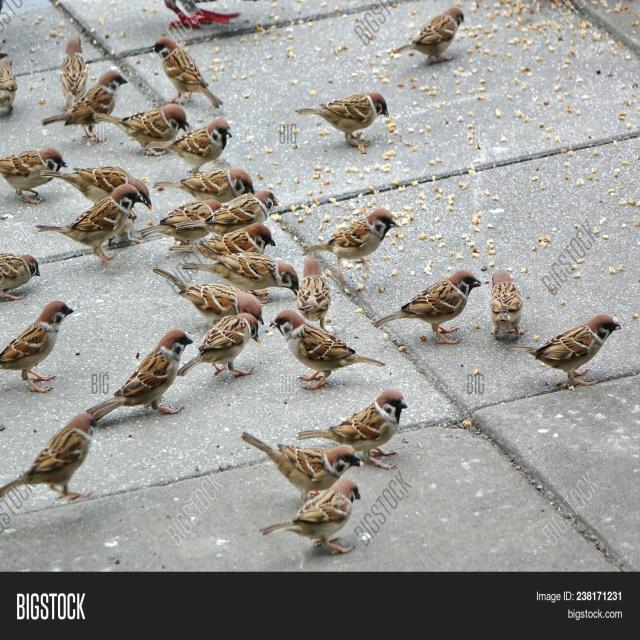bird: (26, 173, 140, 268), (296, 388, 412, 478), (263, 297, 374, 389), (374, 261, 486, 350), (0, 411, 96, 506), (239, 430, 363, 502), (255, 474, 362, 556), (518, 305, 624, 386), (104, 325, 194, 416), (0, 293, 80, 395), (292, 85, 385, 155), (176, 310, 260, 384), (302, 208, 400, 270), (52, 68, 126, 148), (146, 36, 223, 112), (182, 252, 302, 296), (0, 146, 66, 219), (171, 220, 275, 266), (153, 118, 234, 177), (91, 104, 188, 152), (202, 187, 284, 240), (142, 194, 225, 246), (408, 2, 466, 62), (2, 248, 42, 311), (2, 46, 24, 122)
